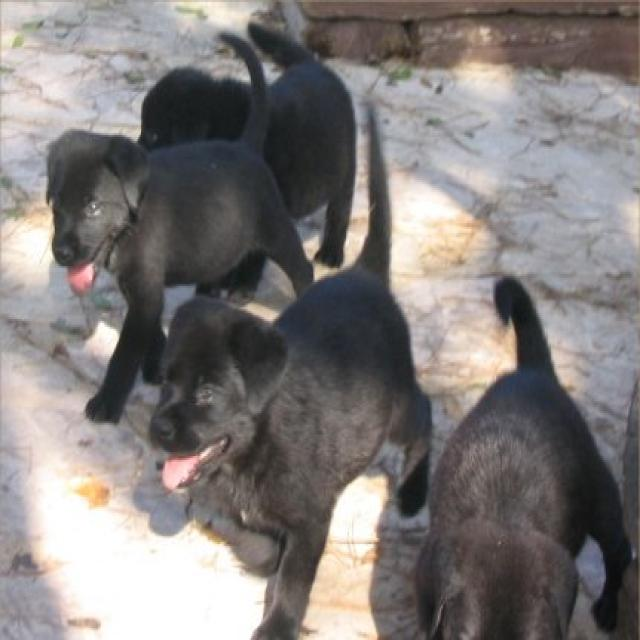Dogs: (146, 98, 432, 638), (412, 272, 632, 638), (136, 20, 356, 268)
